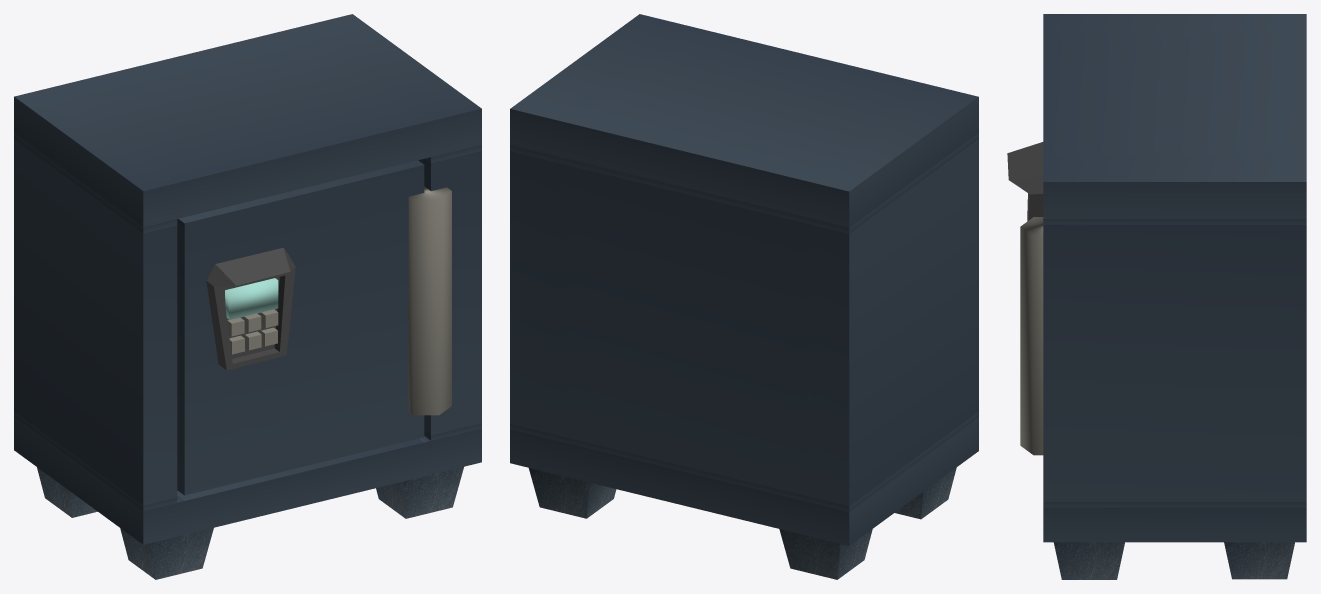
Rendered from safe.fbx.
3 renders of one model, left to right at view 1: azimuth 30°, elevation 25°; view 2: azimuth 150°, elevation 25°; view 3: azimuth 270°, elevation 25°, orthographic.
Visible parts, largest first — view 1: Cube, Cylinder, Cube.005, Cube.002, Cube.001, Cube.006, Cube.003; view 2: Cube, Cube.003, Cube.004, Cube.002; view 3: Cube, Cylinder, Cube.001, Cube.004, Cube.005.
Boxes of the visible parts, bbox=[...] form: Cube: bbox=[14, 14, 481, 544]; Cylinder: bbox=[408, 186, 451, 415]; Cube.005: bbox=[206, 247, 295, 370]; Cube.002: bbox=[120, 528, 213, 579]; Cube.001: bbox=[376, 467, 463, 518]; Cube.006: bbox=[225, 278, 278, 319]; Cube.003: bbox=[37, 467, 97, 517]; Cube: bbox=[510, 14, 978, 545]; Cube.003: bbox=[779, 529, 872, 579]; Cube.004: bbox=[528, 468, 616, 518]; Cube.002: bbox=[895, 467, 956, 519]; Cube: bbox=[1043, 14, 1306, 542]; Cylinder: bbox=[1020, 217, 1043, 455]; Cube.001: bbox=[1053, 542, 1124, 579]; Cube.004: bbox=[1224, 542, 1294, 579]; Cube.005: bbox=[1007, 142, 1043, 221].
Bounding box in the file's own units: 294 × 332 × 221.
